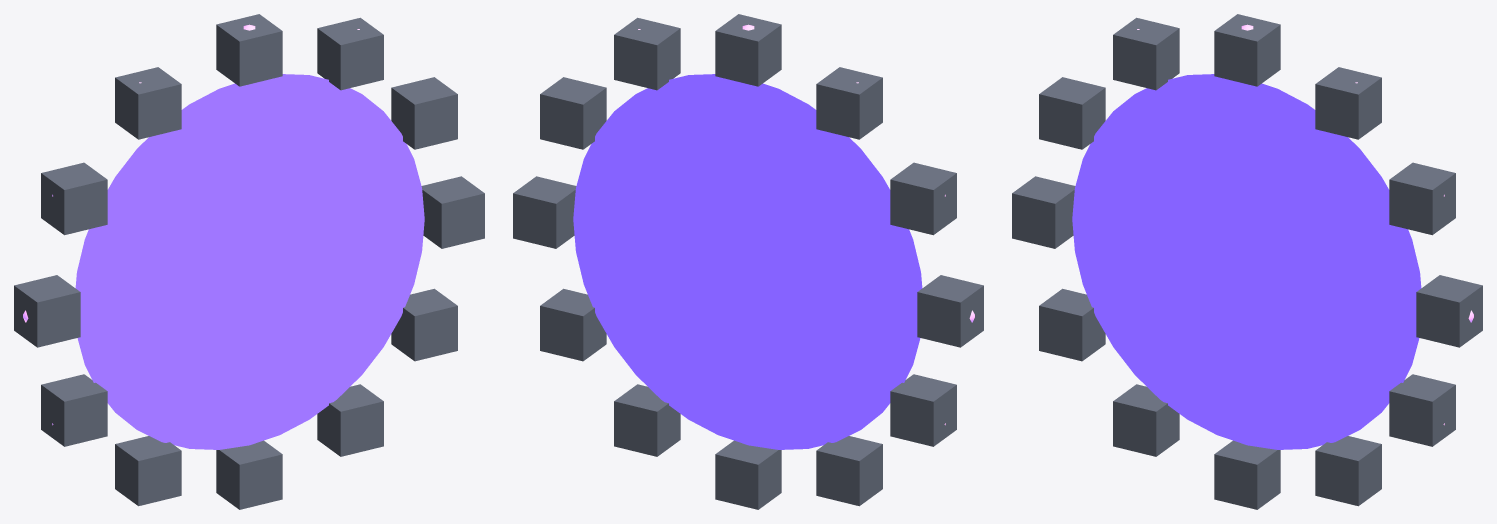
The model's file is gate.glb.
The picture shows the model from 3 angles, left to right: view 1: azimuth 30°, elevation 25°; view 2: azimuth 150°, elevation 25°; view 3: azimuth 330°, elevation 25°; orthographic projection.
Visible parts, largest first — view 1: gate; view 2: gate; view 3: gate.
Boxes of the visible parts, x1,y1,x2,y2 form: gate: (14, 14, 484, 509); gate: (513, 14, 983, 509); gate: (1012, 14, 1482, 509).
Bounding box in the file's own units: 33.6 × 33.6 × 3.
